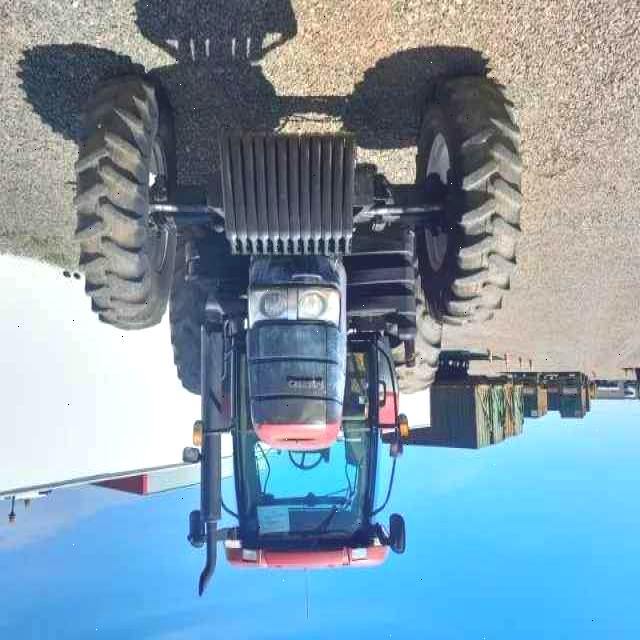Tratores - v5 YOLO V8L 2024-11-13: (78, 68, 520, 604)
